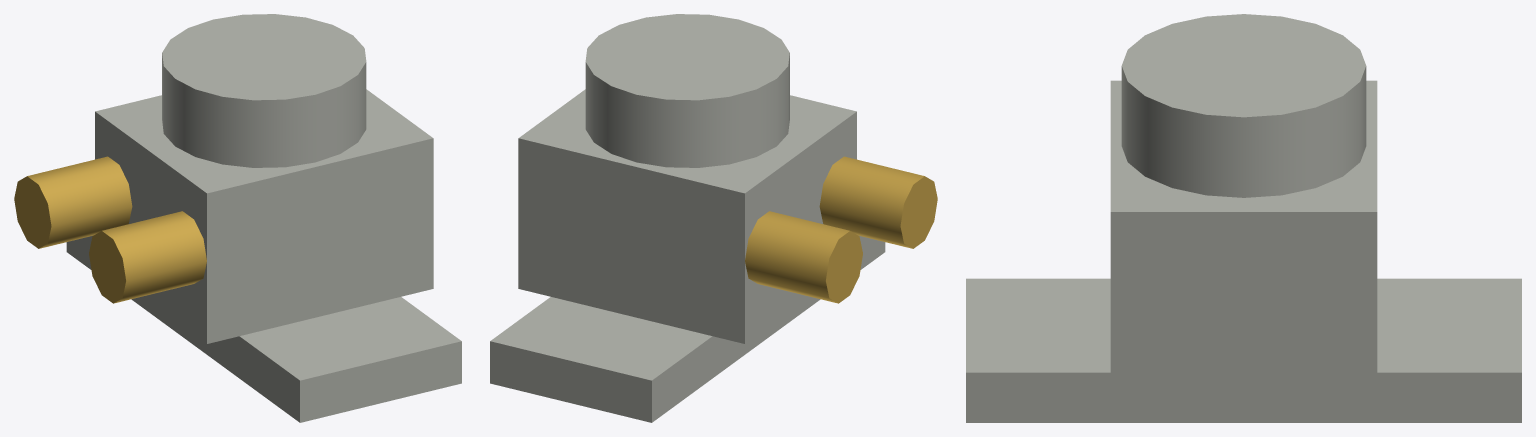
File: warm-up-regulator.glb
The picture shows the model from 3 angles, left to right: view 1: azimuth 30°, elevation 25°; view 2: azimuth 150°, elevation 25°; view 3: azimuth 270°, elevation 25°; orthographic projection. The views are drawn at different scales.
Parts seen in each view (by area): view 1: warm-up-regulator:zincPlate, warm-up-regulator:brass; view 2: warm-up-regulator:zincPlate, warm-up-regulator:brass; view 3: warm-up-regulator:zincPlate.
Boxes of the visible parts, x1,y1,x2,y2 form: warm-up-regulator:zincPlate: (66,14,461,422); warm-up-regulator:brass: (14,156,206,303); warm-up-regulator:zincPlate: (490,14,885,422); warm-up-regulator:brass: (745,156,937,303); warm-up-regulator:zincPlate: (966,14,1521,422).
Size of the model in its own units: 38 by 30.8 by 50.
